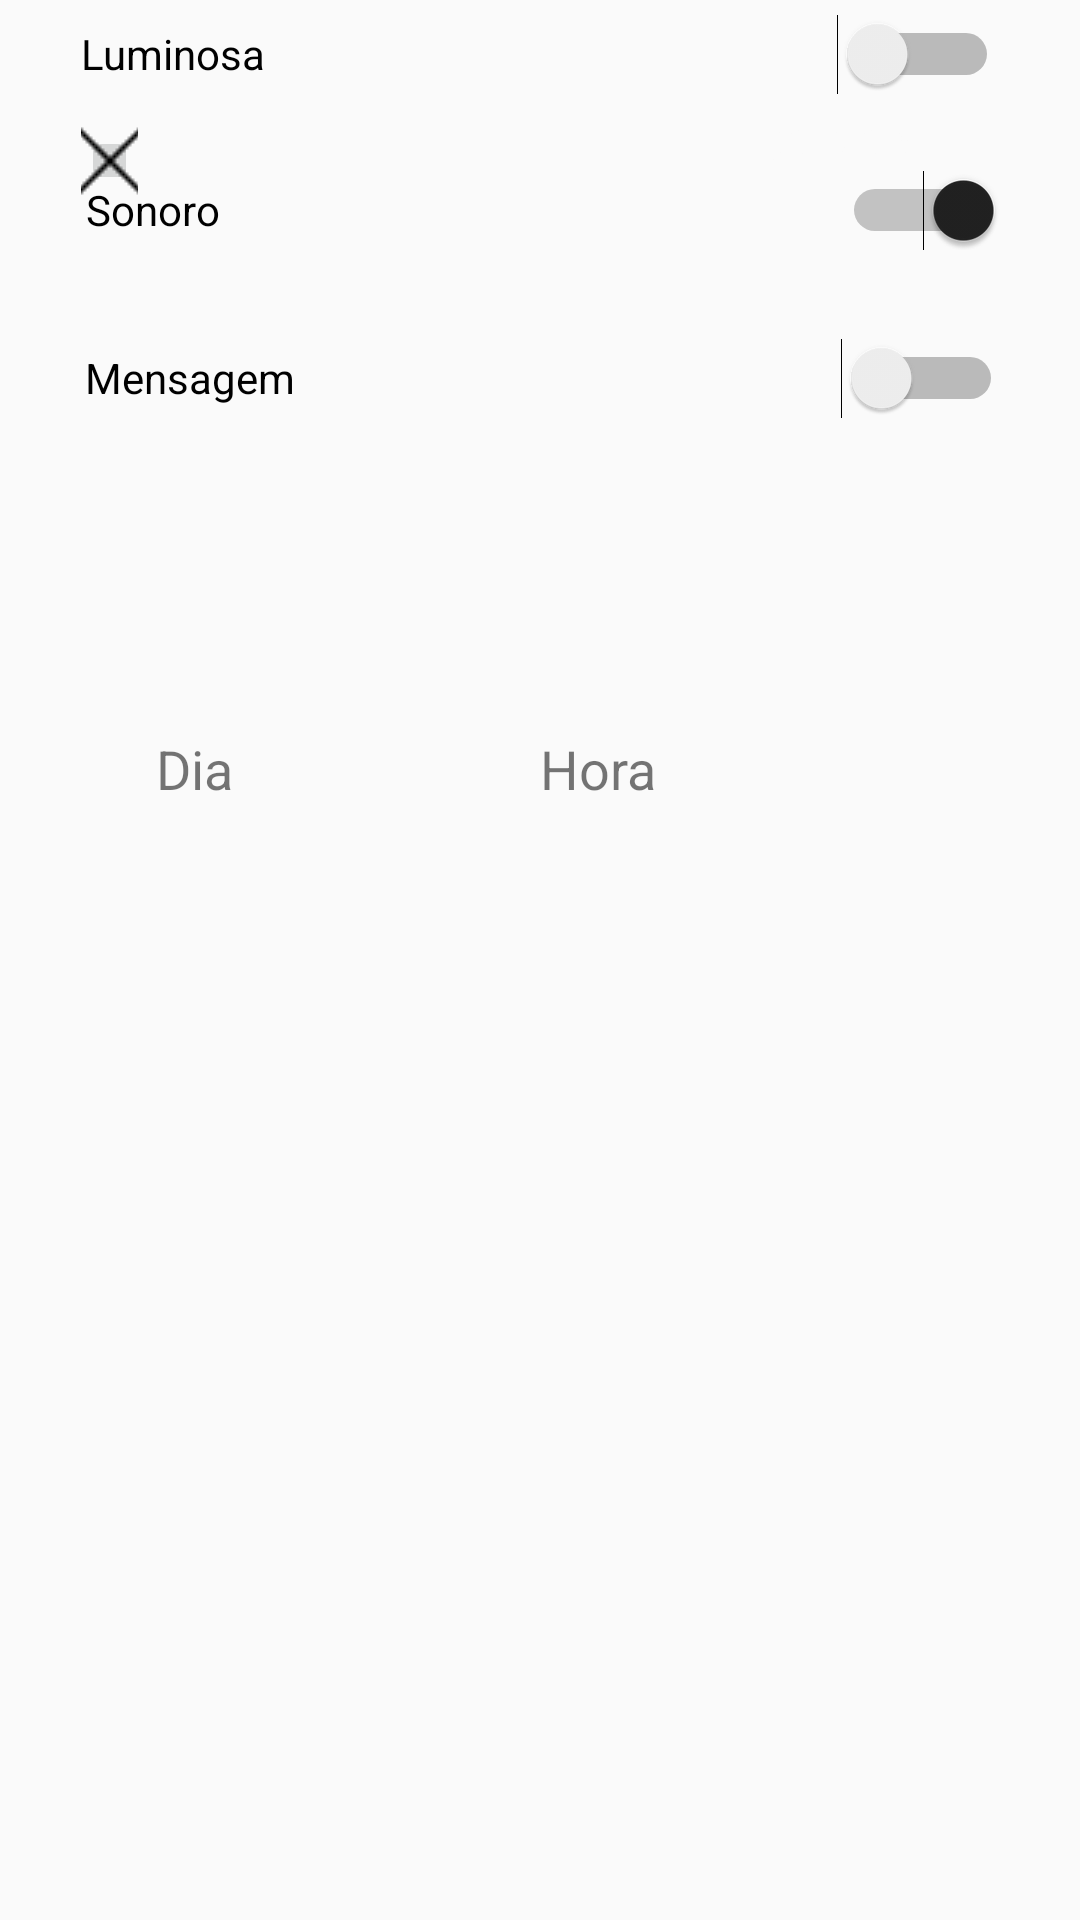

Where icons sit on this 1080*1920 app screen, as [x1=x1, y1=y1, x2=x2, y2=y2]:
cancel: [x1=81, y1=127, x2=138, y2=195]
